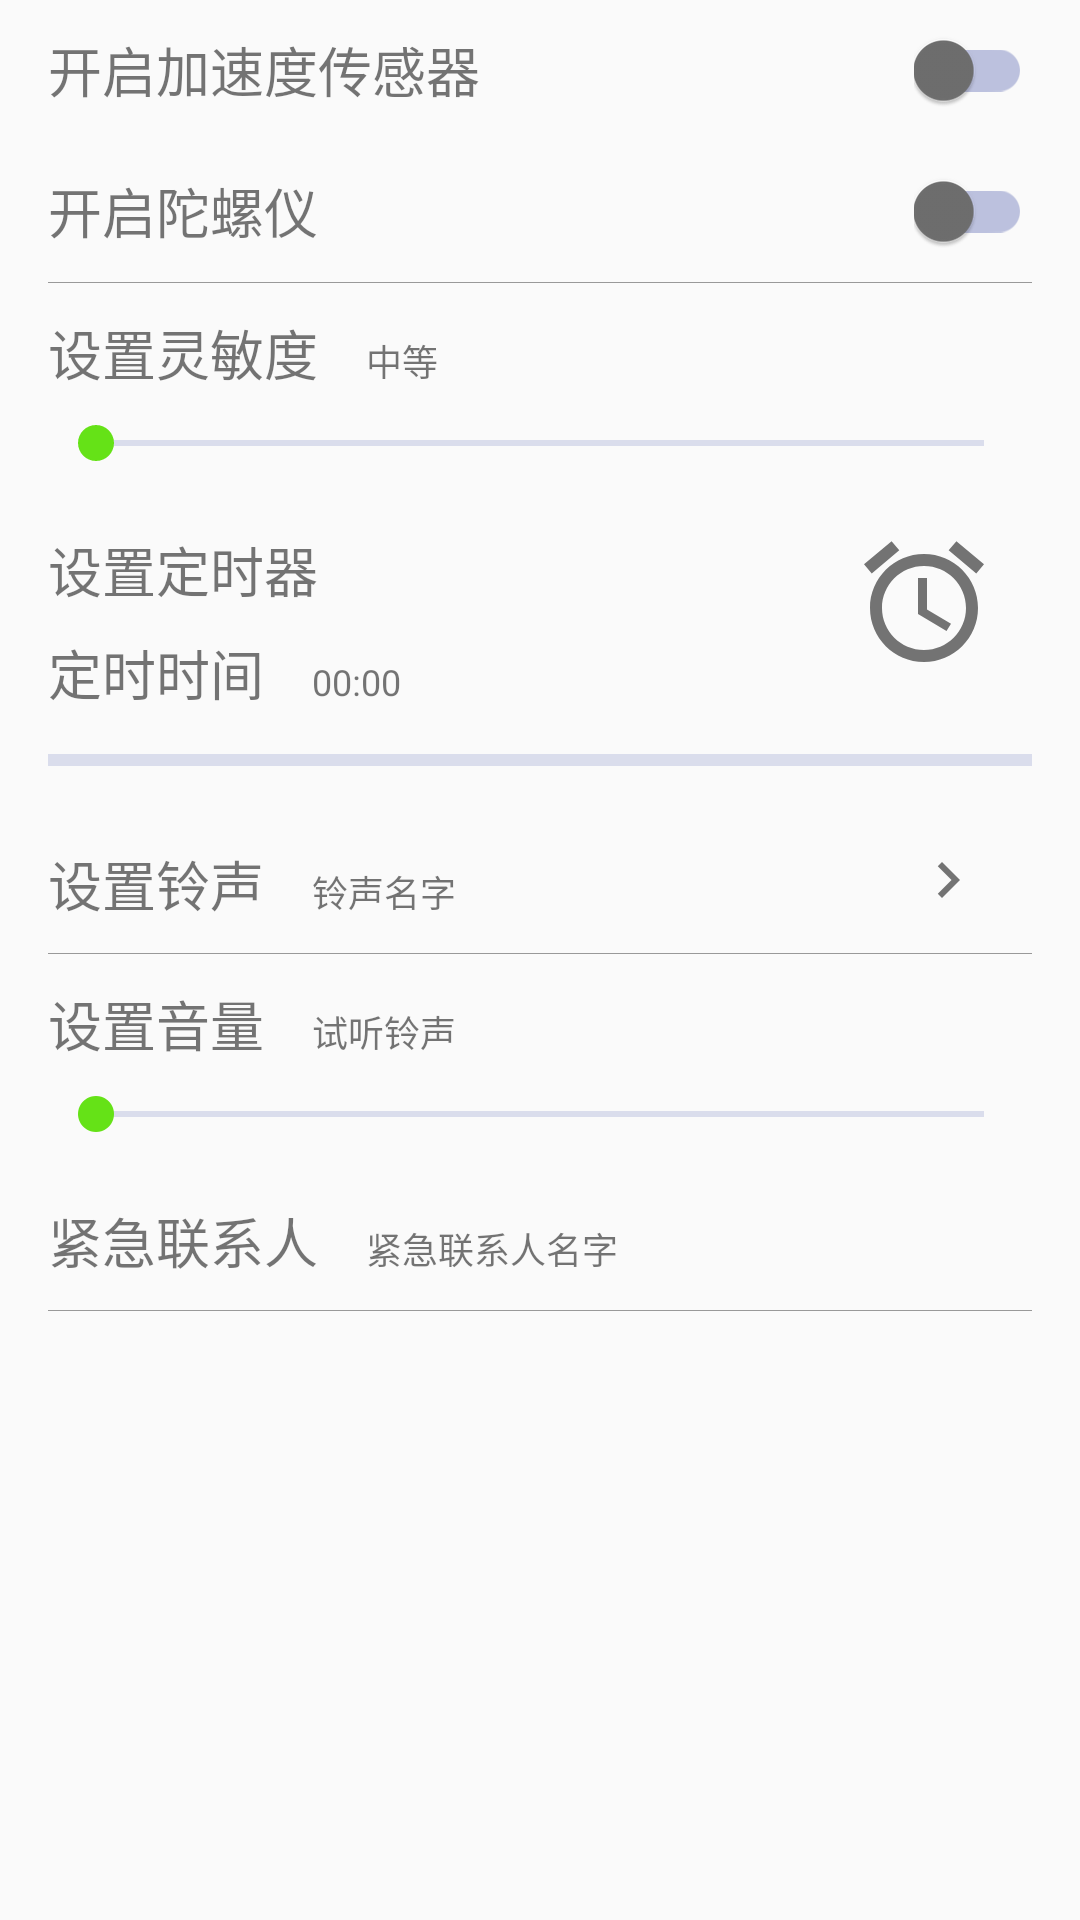

Where icons sit on this 1080×1920 app screen, as Rect(x1, y1, x2, y2):
select: Rect(938, 862, 960, 898)
timer: Rect(864, 541, 984, 662)
